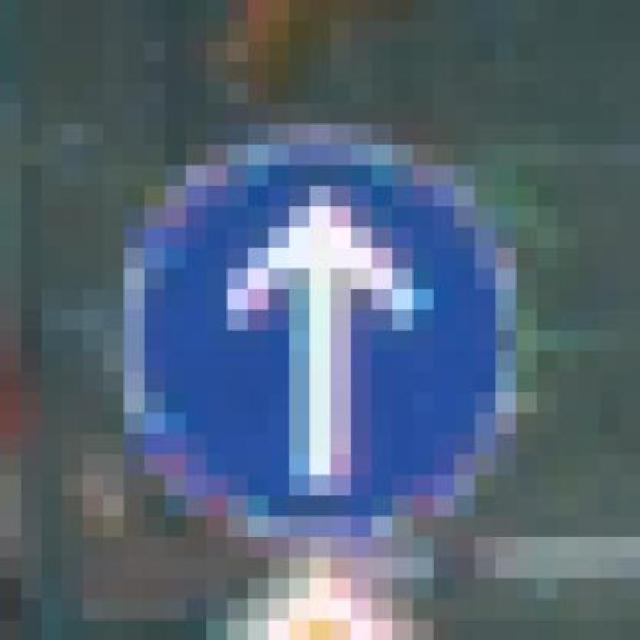Straight Ahead Only: (61, 124, 578, 578)
